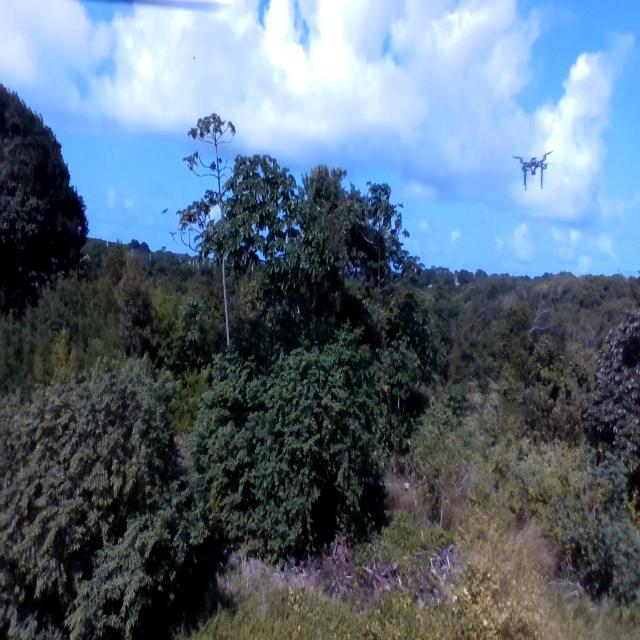-uav-: (505, 135, 565, 204)
